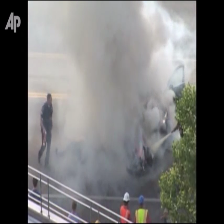smoke: (61, 10, 171, 176)
